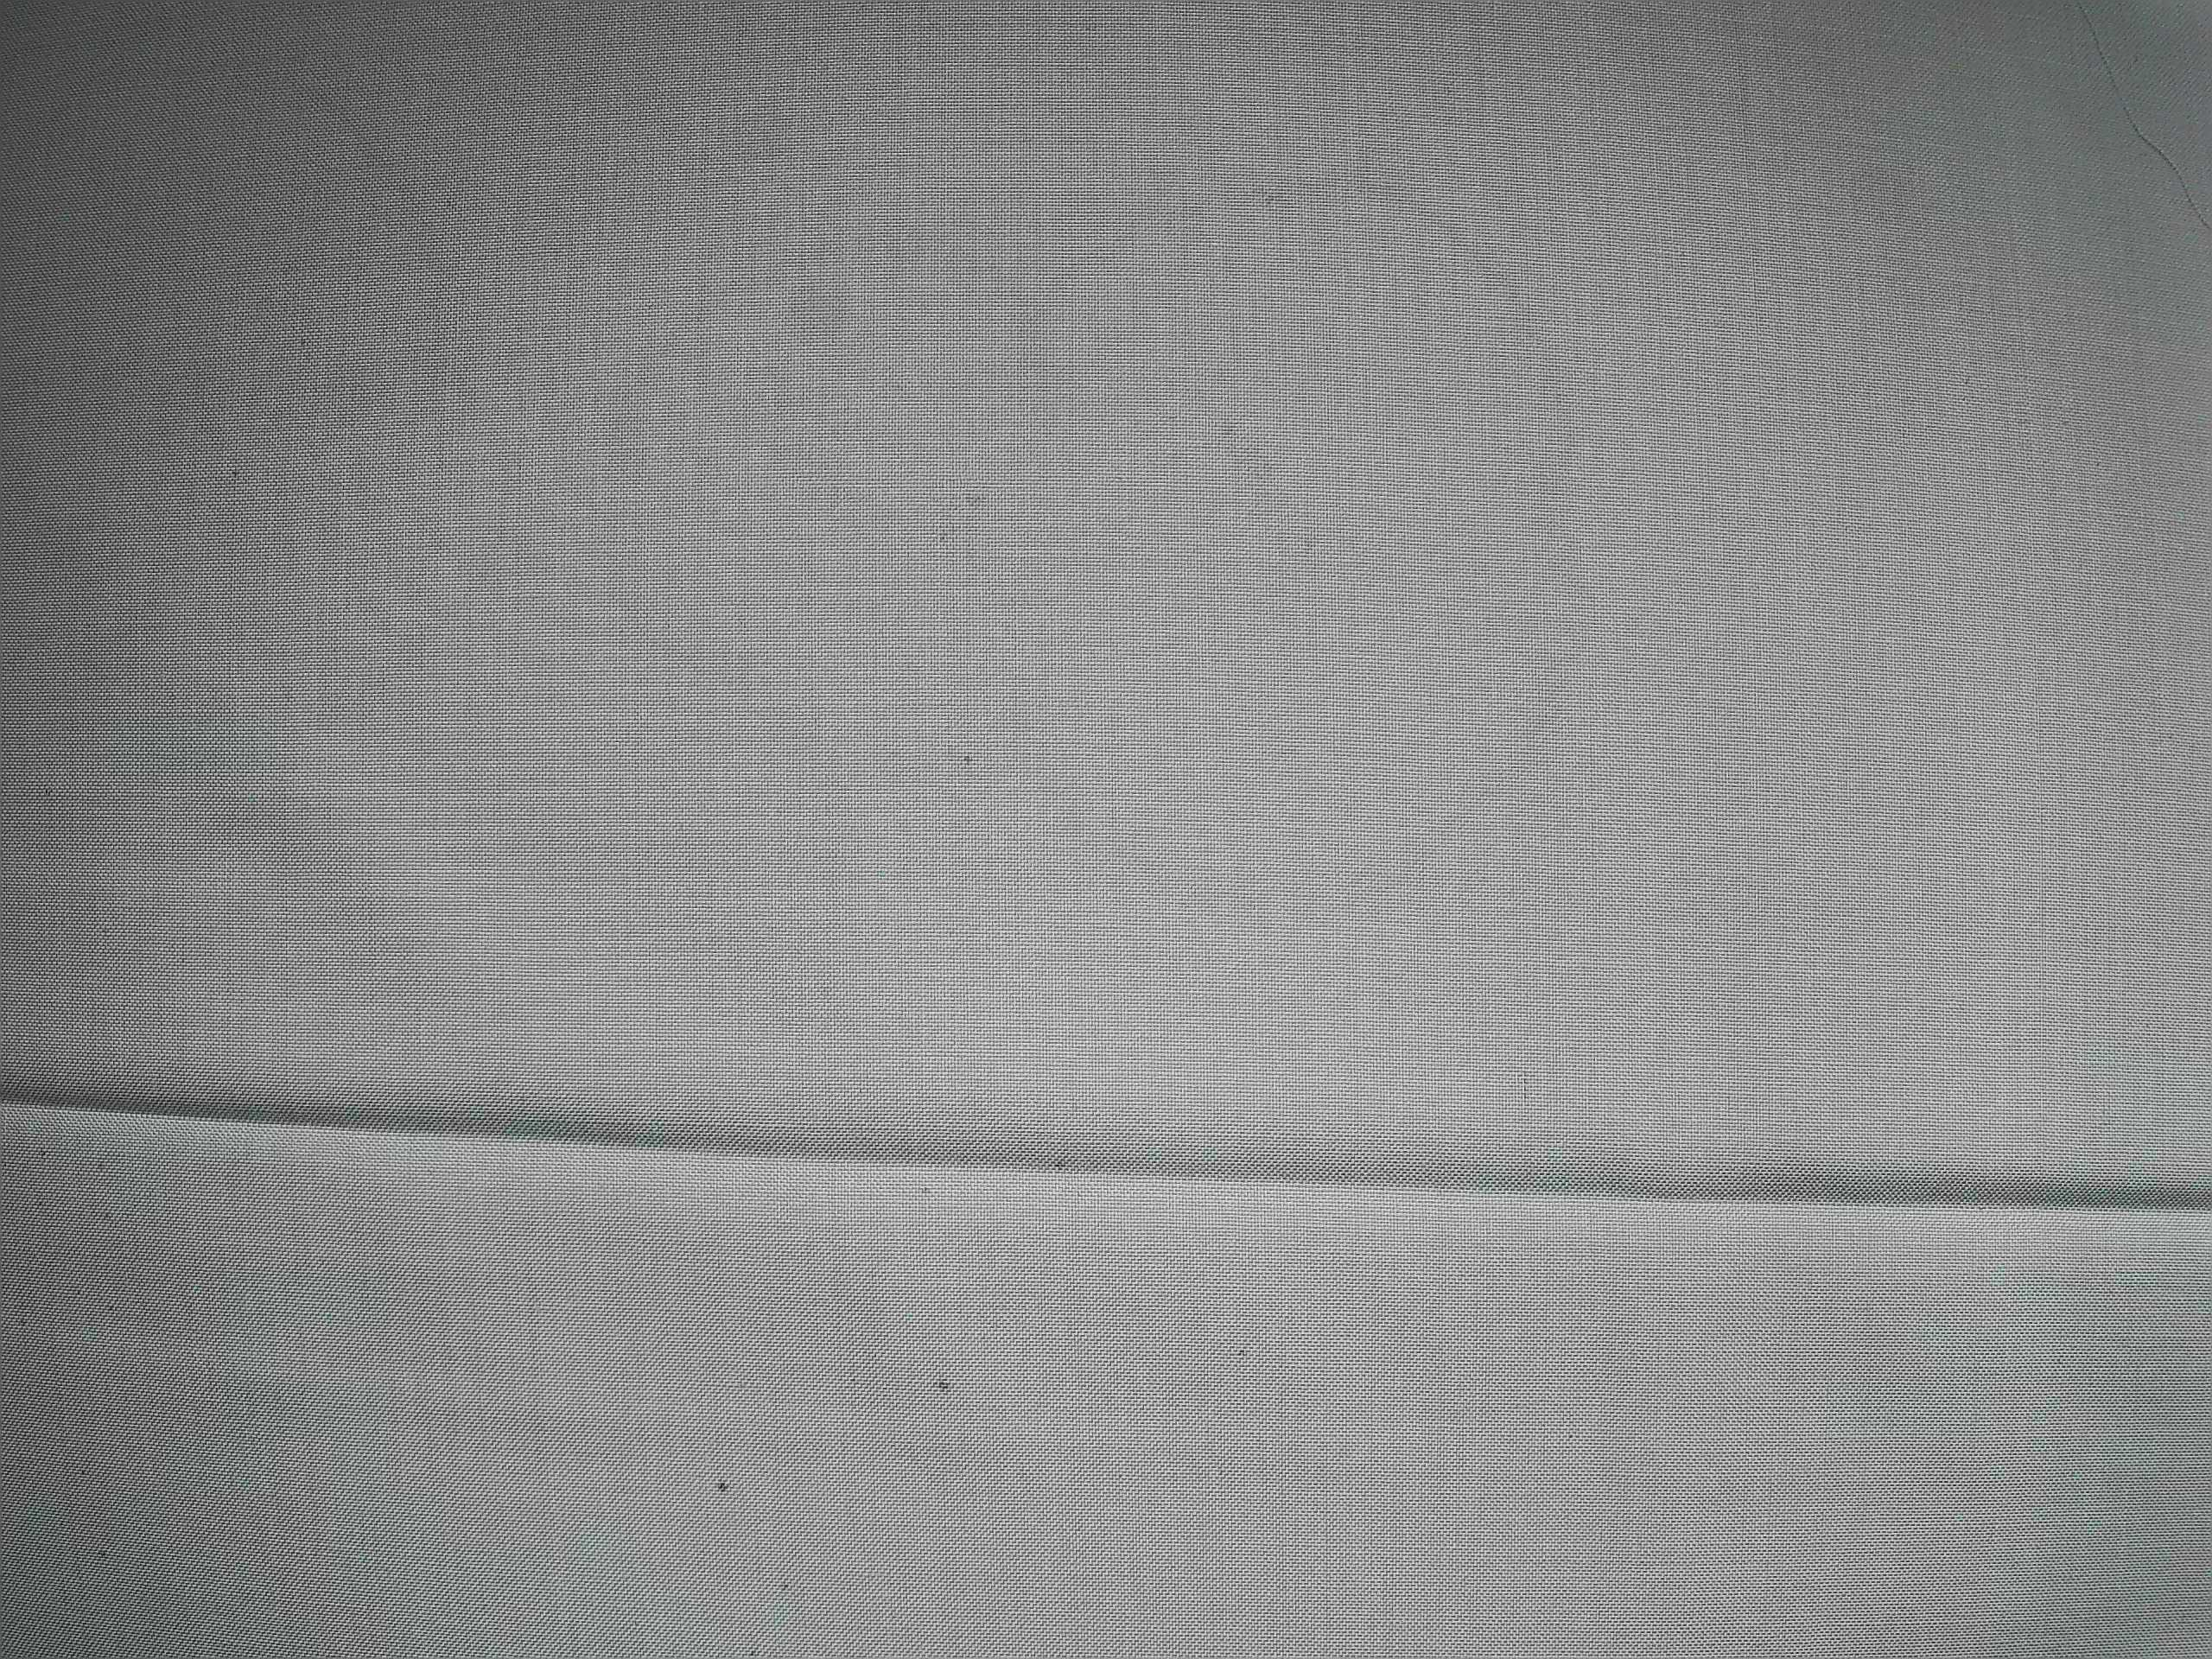stains: (931, 130, 1627, 938)
